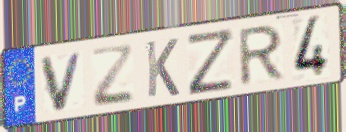4: (291, 13, 331, 82)
K: (144, 36, 182, 100)
R: (237, 22, 287, 89)
V: (39, 49, 87, 114)
Z: (185, 26, 237, 98), (89, 44, 135, 110)
